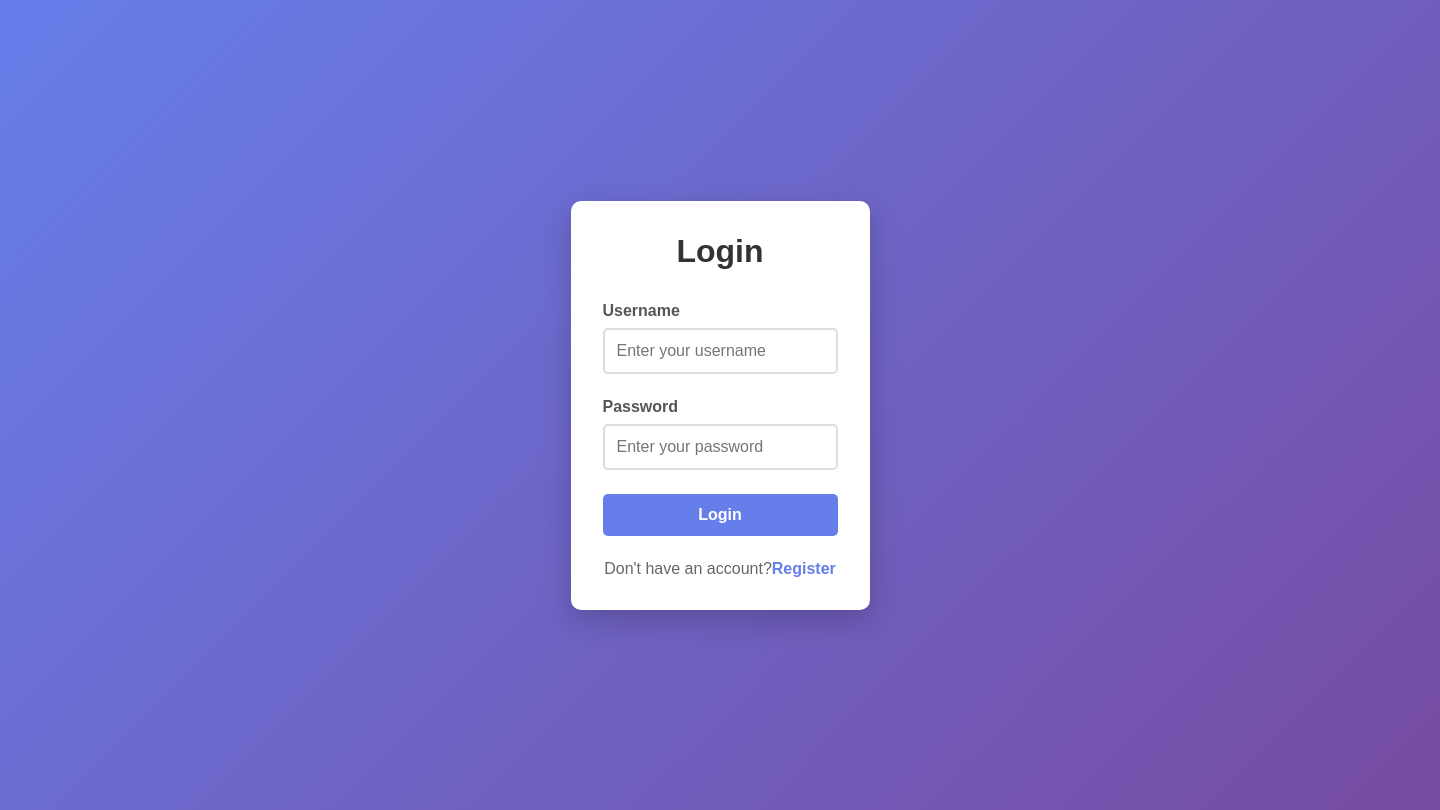
Test: Login Component › mostra erro de credenciais inválidas
The image size is (1440, 810).
Type "wronguser" into the field labelled "Username". click: [720, 350]
box: [602,328,838,374]
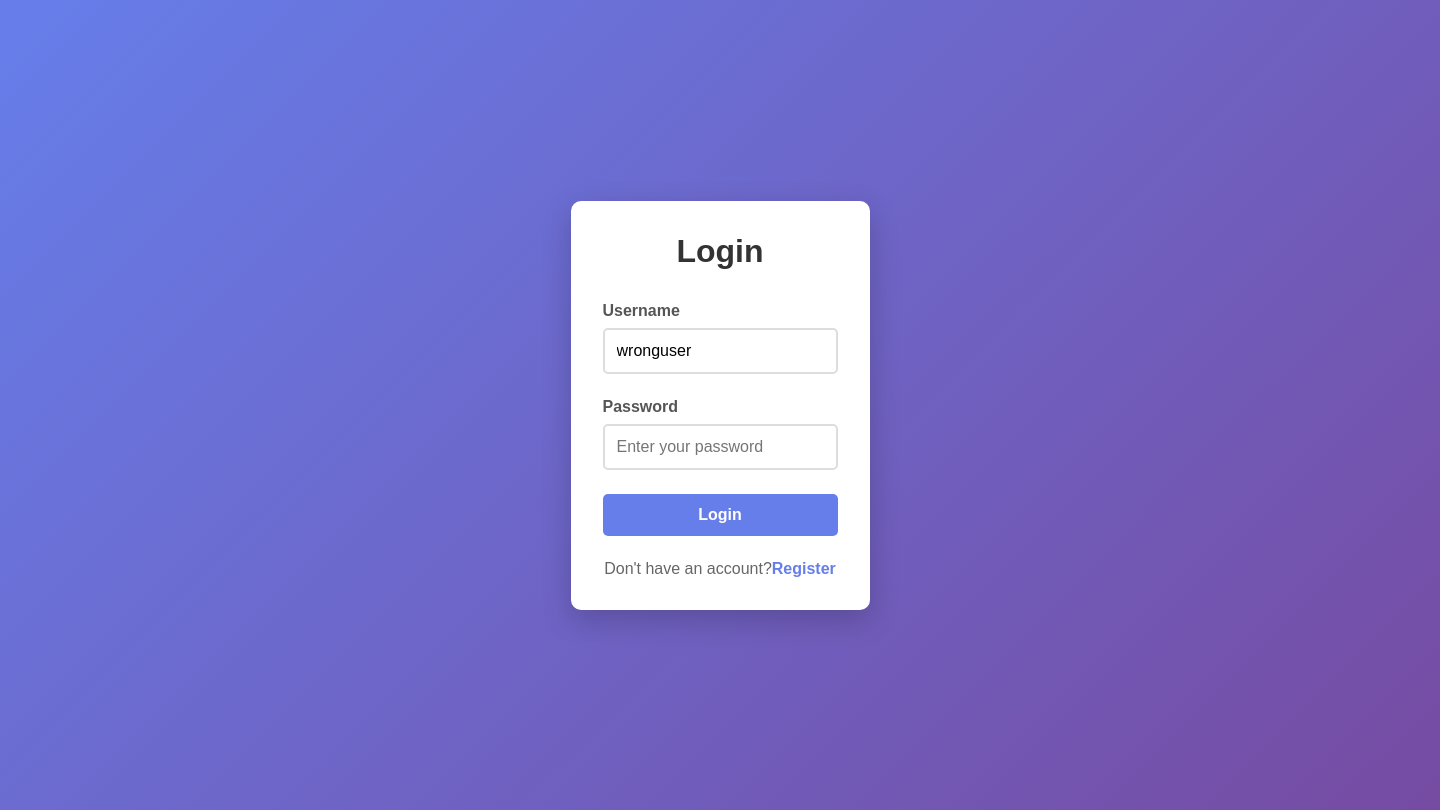
Type "wrongpass" into the password field labelled "Password". click: [720, 446]
box: [602,424,838,470]
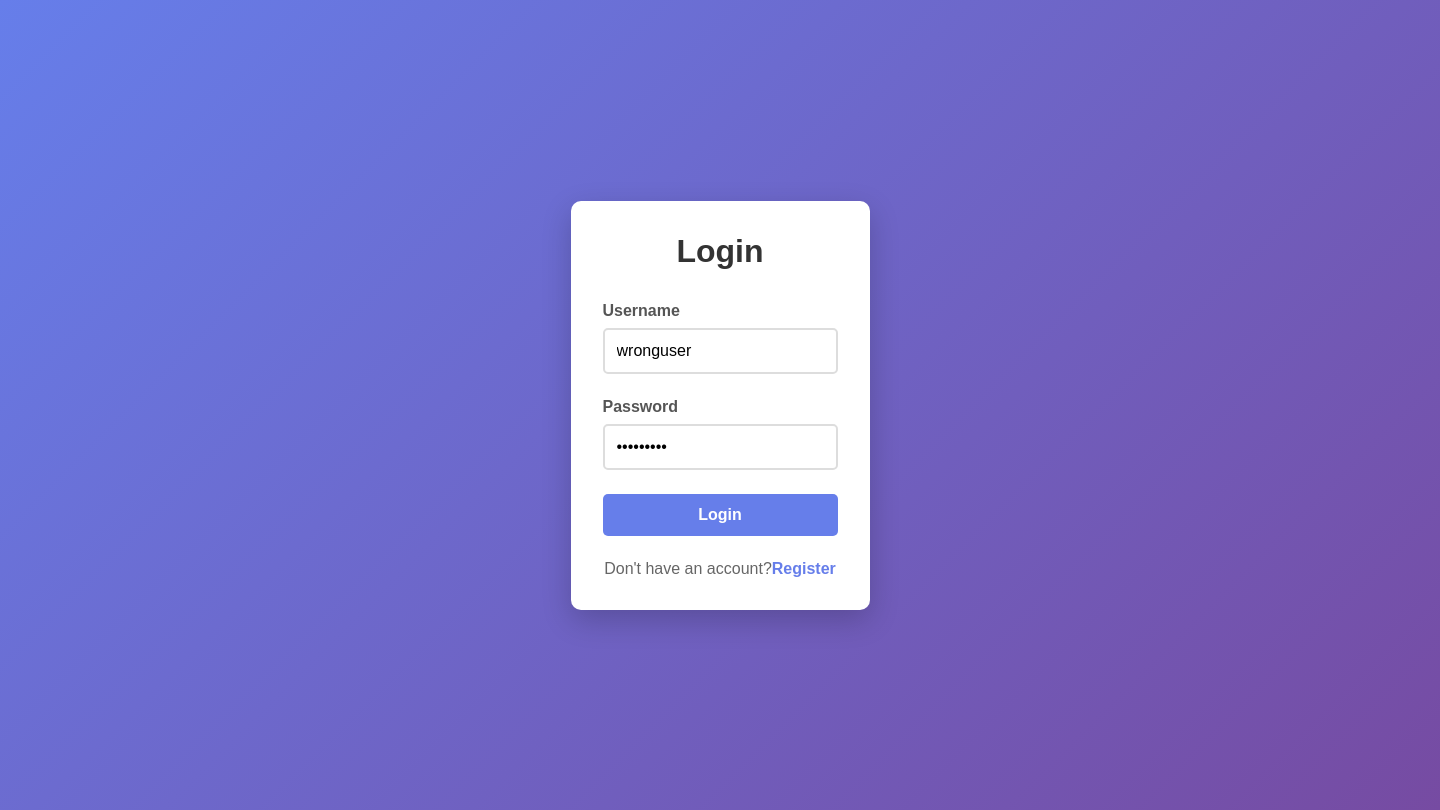
Click the button "Login". click: [720, 514]
box: [602,494,838,536]
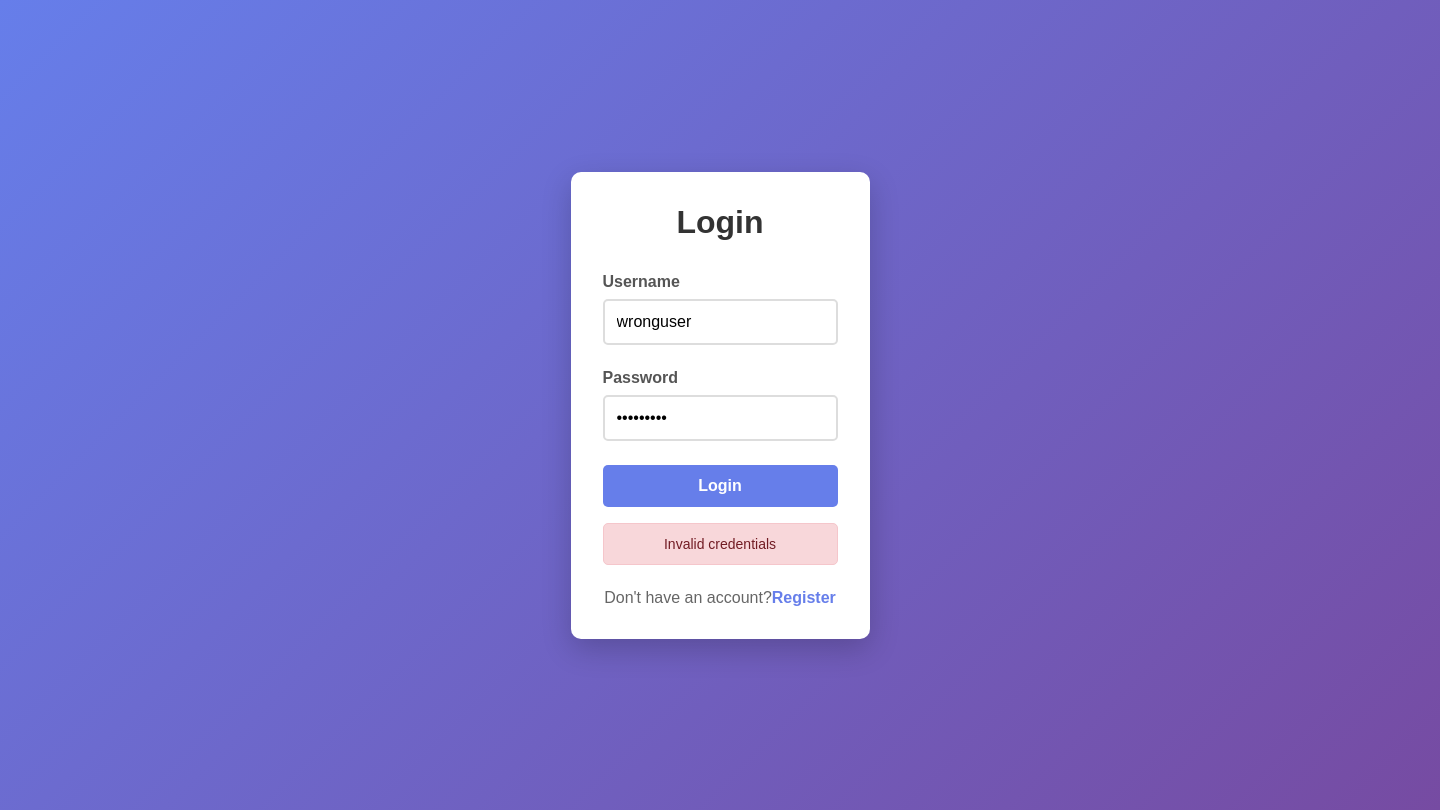
Check: the text "Invalid credentials" is shown, box [602,522,838,564]
